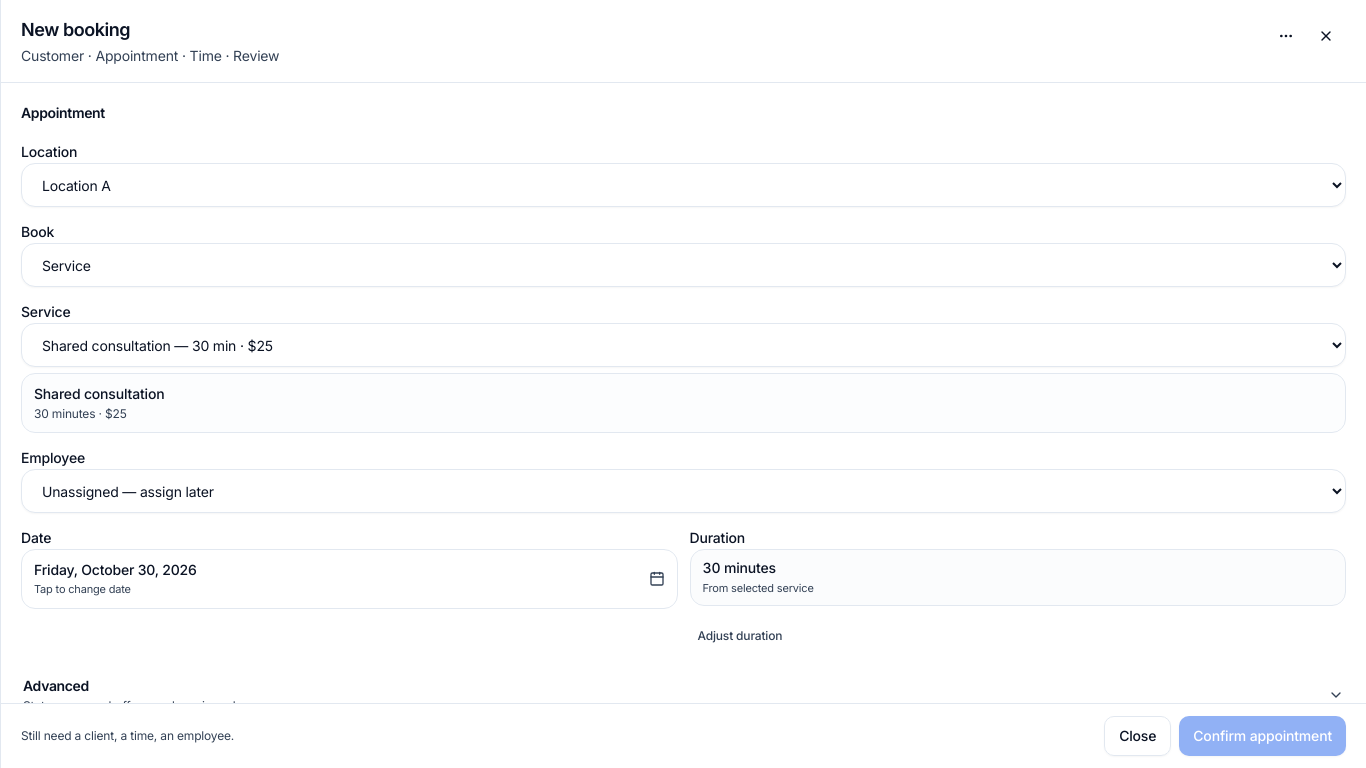
Test: real Booking Sheet and AppointmentSection location switching › explains an incompatible package even when the location offers an unrelated service
This screenshot has width=1366, height=768.
Select "Location C" in the dropdown labelled "Location": (684, 185) 21,163 -> 1346,207
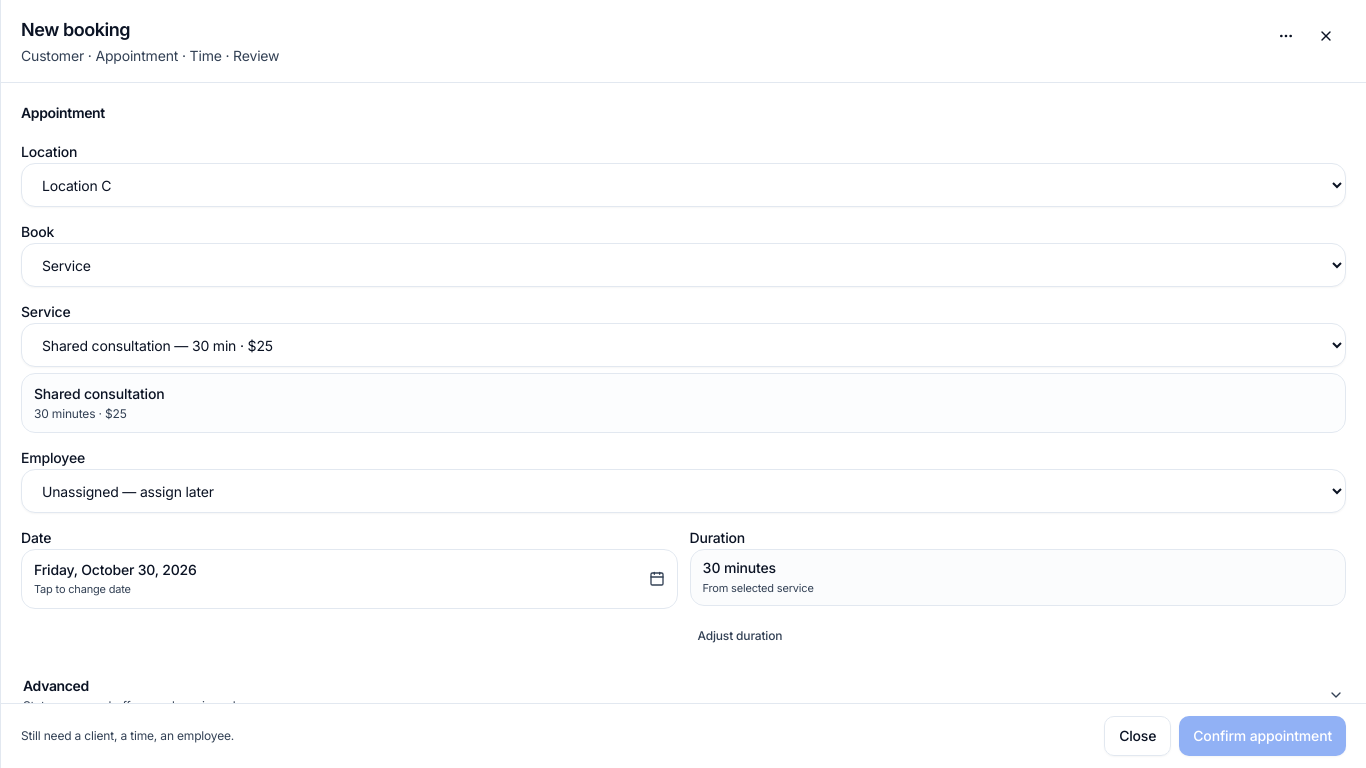
Expected: the dropdown labelled "Service" shows "Shared consultation — 30 min · $25", 21,323 -> 1346,367
Select "Package" in the dropdown labelled "Book": (684, 265) 21,243 -> 1346,287
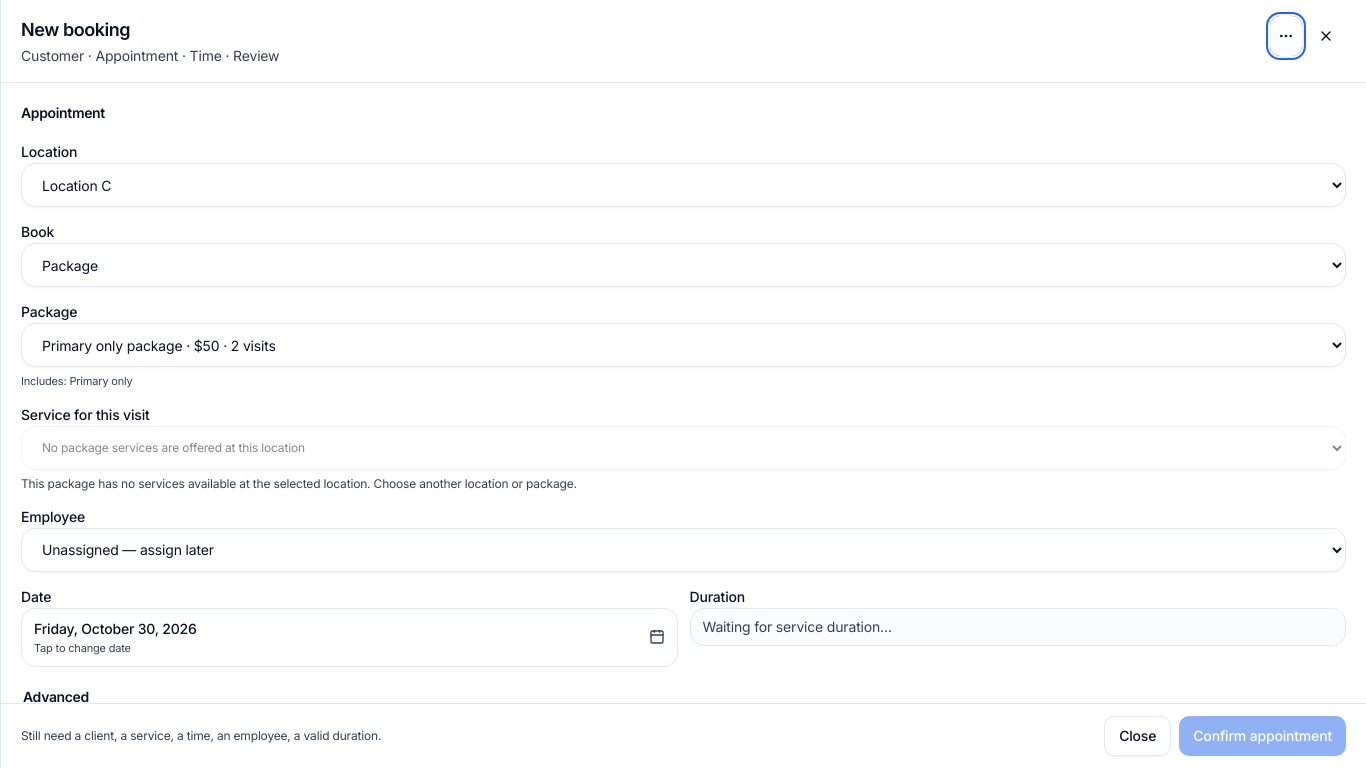
Expected: the dropdown labelled "Package" shows "Primary only package · $50 · 2 visits", 21,323 -> 1346,367
Expected: the dropdown labelled "Service for this visit" shows "No package services are offered at this location", 21,426 -> 1346,470
Expected: the dropdown labelled "Service for this visit" is disabled, 21,426 -> 1346,470
